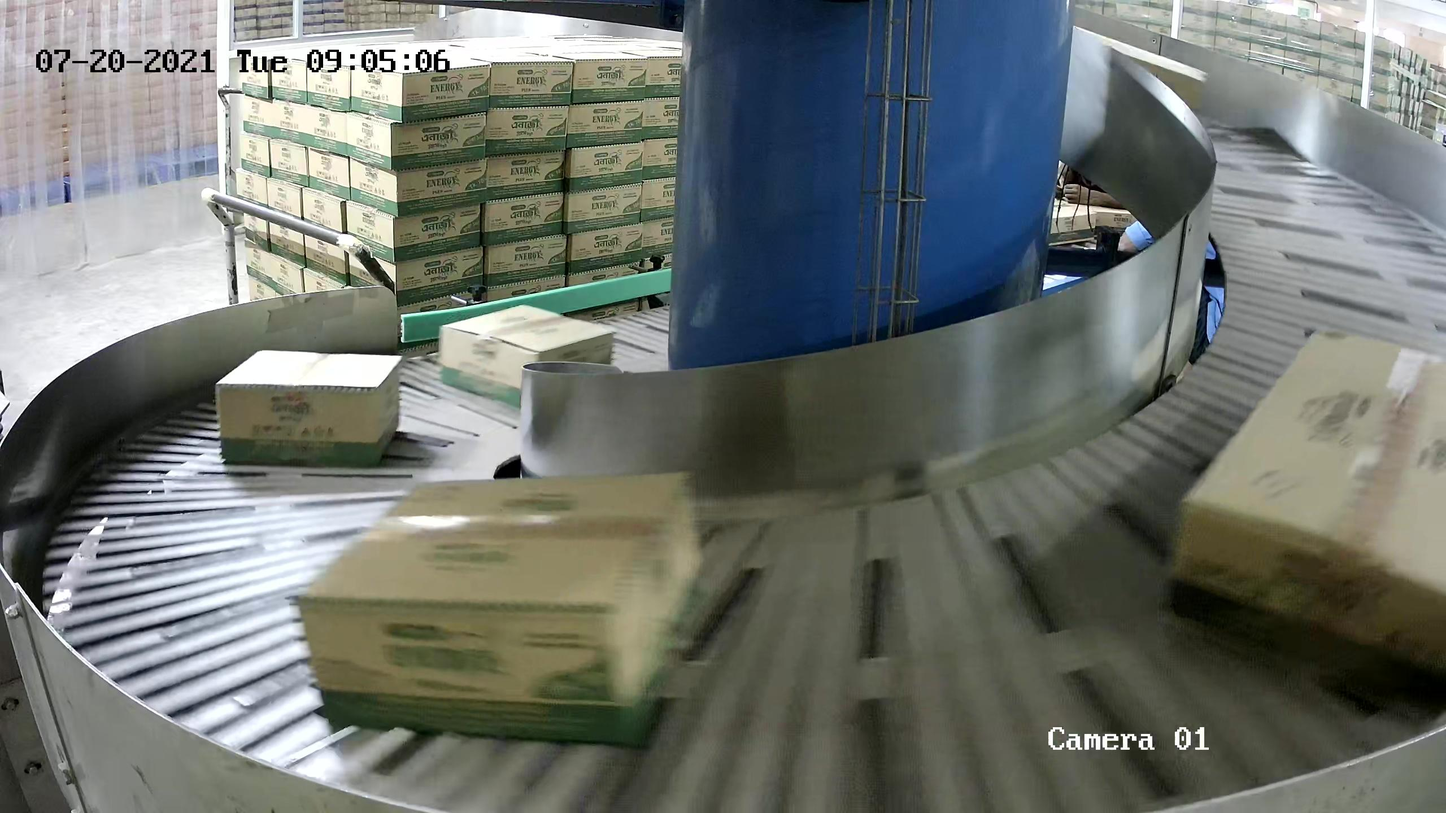Box: (291, 470, 709, 744), (1169, 323, 1446, 724), (214, 349, 406, 466), (438, 303, 616, 415)
